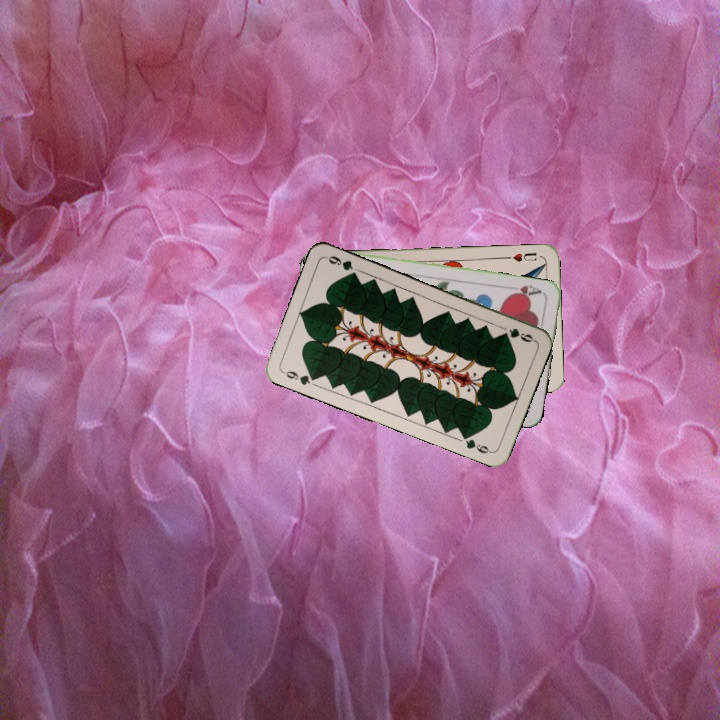G9: (279, 367, 320, 388), (505, 324, 537, 345)
HA: (505, 281, 546, 300)
HU: (503, 248, 539, 264)
